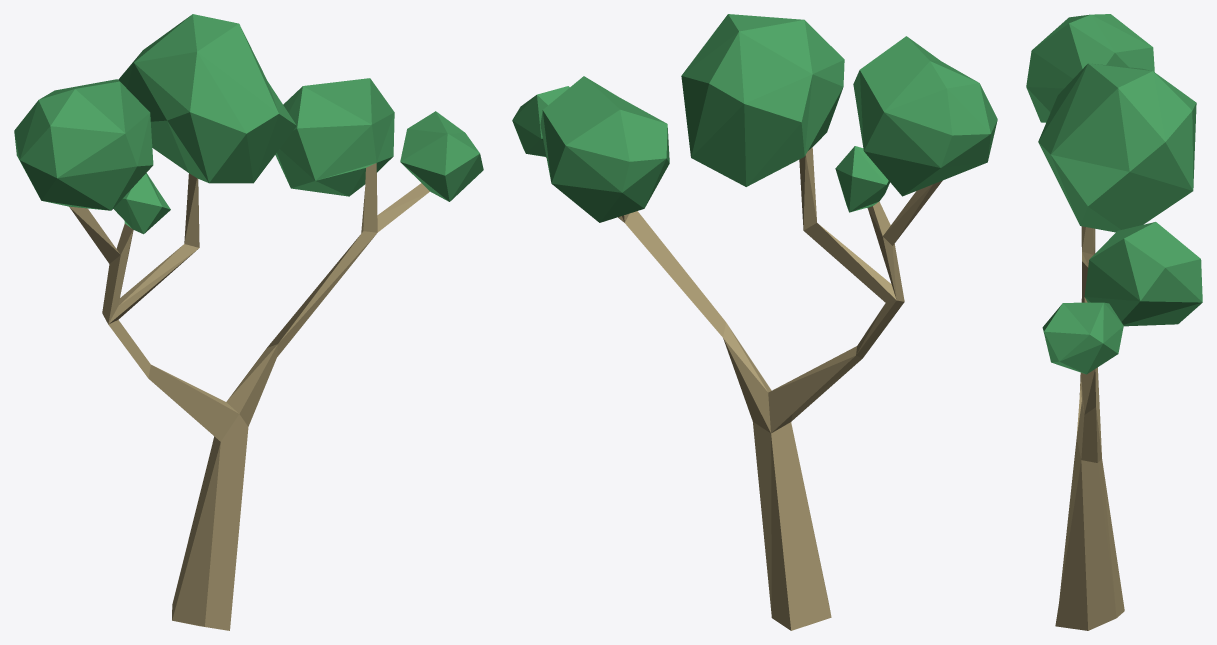
File: tree46.fbx
The picture shows the model from 3 angles, left to right: view 1: azimuth 30°, elevation 25°; view 2: azimuth 150°, elevation 25°; view 3: azimuth 270°, elevation 25°; orthographic projection. The views are drawn at different scales.
Parts seen in each view (by area): view 1: treetype46; view 2: treetype46; view 3: treetype46.
Boxes of the visible parts, bbox=[...] form: treetype46: bbox=[14, 14, 483, 630]; treetype46: bbox=[512, 14, 997, 630]; treetype46: bbox=[1026, 14, 1202, 630].
Bounding box in the file's own units: 193 × 239 × 67.63.
